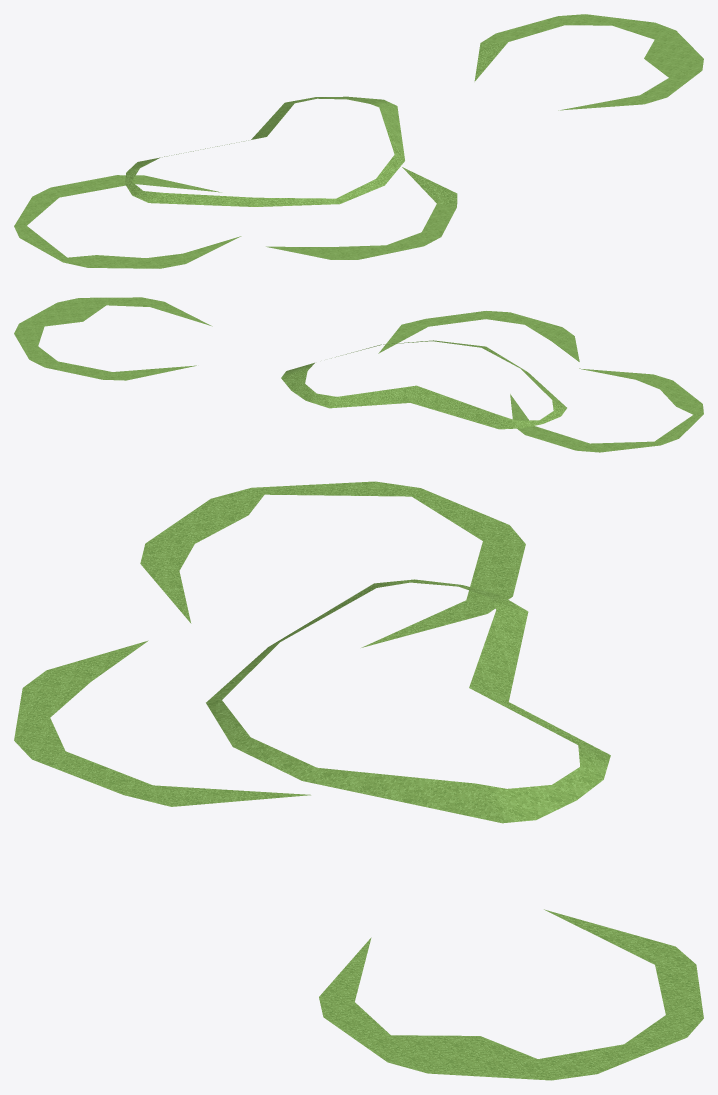
Rendered from kd_stage_1366d7_18_2.glb.
3 views of the same model, one above another, from view 1: azimuth 30°, elevation 25°; view 2: azimuth 150°, elevation 25°; view 3: azimuth 270°, elevation 25° (orthographic). The views are drawn at different scales.
Visible parts, largest first — view 1: kd_stage_1366d7_18_2; view 2: kd_stage_1366d7_18_2; view 3: kd_stage_1366d7_18_2.
Part boxes in pixels (x1,y1,x2,y2): kd_stage_1366d7_18_2: (14, 14, 703, 268); kd_stage_1366d7_18_2: (14, 297, 703, 452); kd_stage_1366d7_18_2: (14, 481, 703, 1080).
Bounding box in the file's own units: 430 × 10.87 × 211.
Materials: 1 (1 with a texture image).
